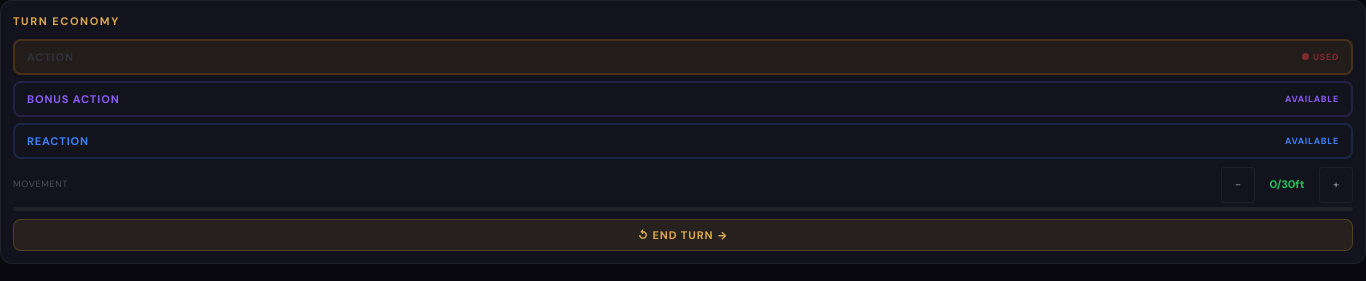
Test case: keeps spent actions until combat advancement is confirmed, and ignores repeated clicks
The width and height of the screenshot is (1366, 281).
Click the button "↺ End Turn →".
click(683, 235)  # box [13,219,1353,251]
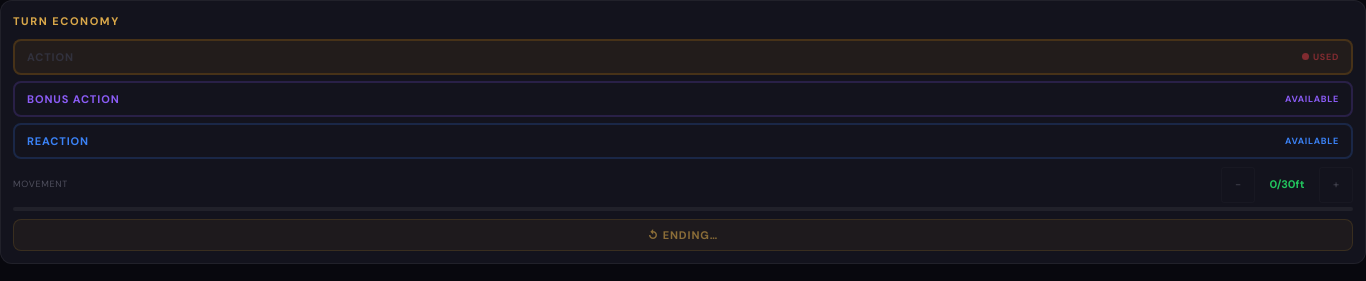
Click the button "↺ Ending…".
click(683, 235)  # box [13,219,1353,251]
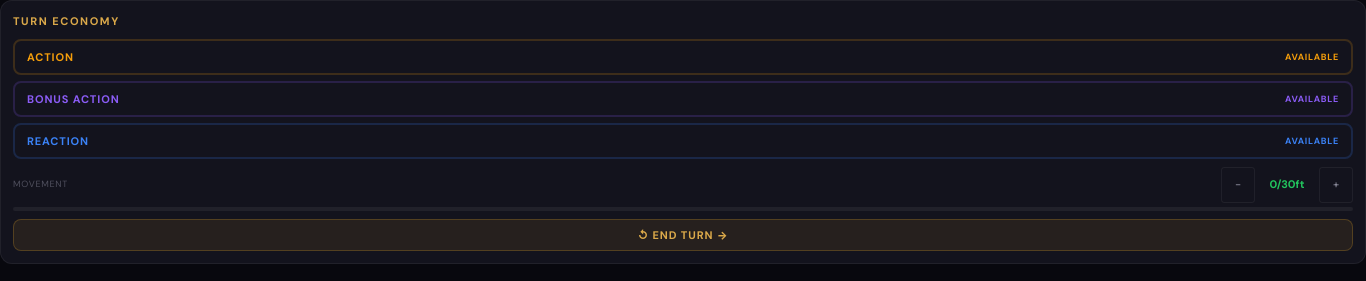
expect the button "Action Available" is shown: met, box [13,39,1353,75]
